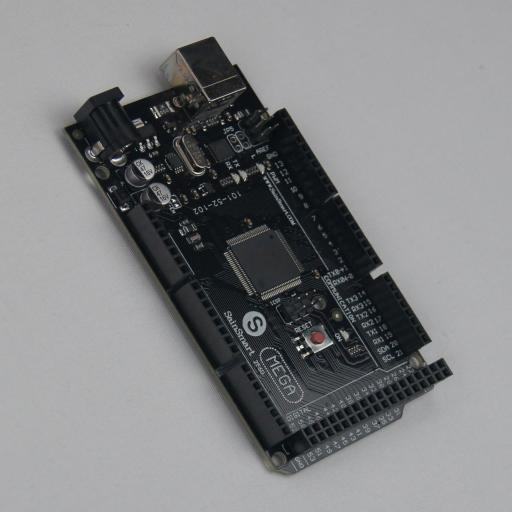Arduino Mega 2560 -Black-: (61, 37, 453, 475)
